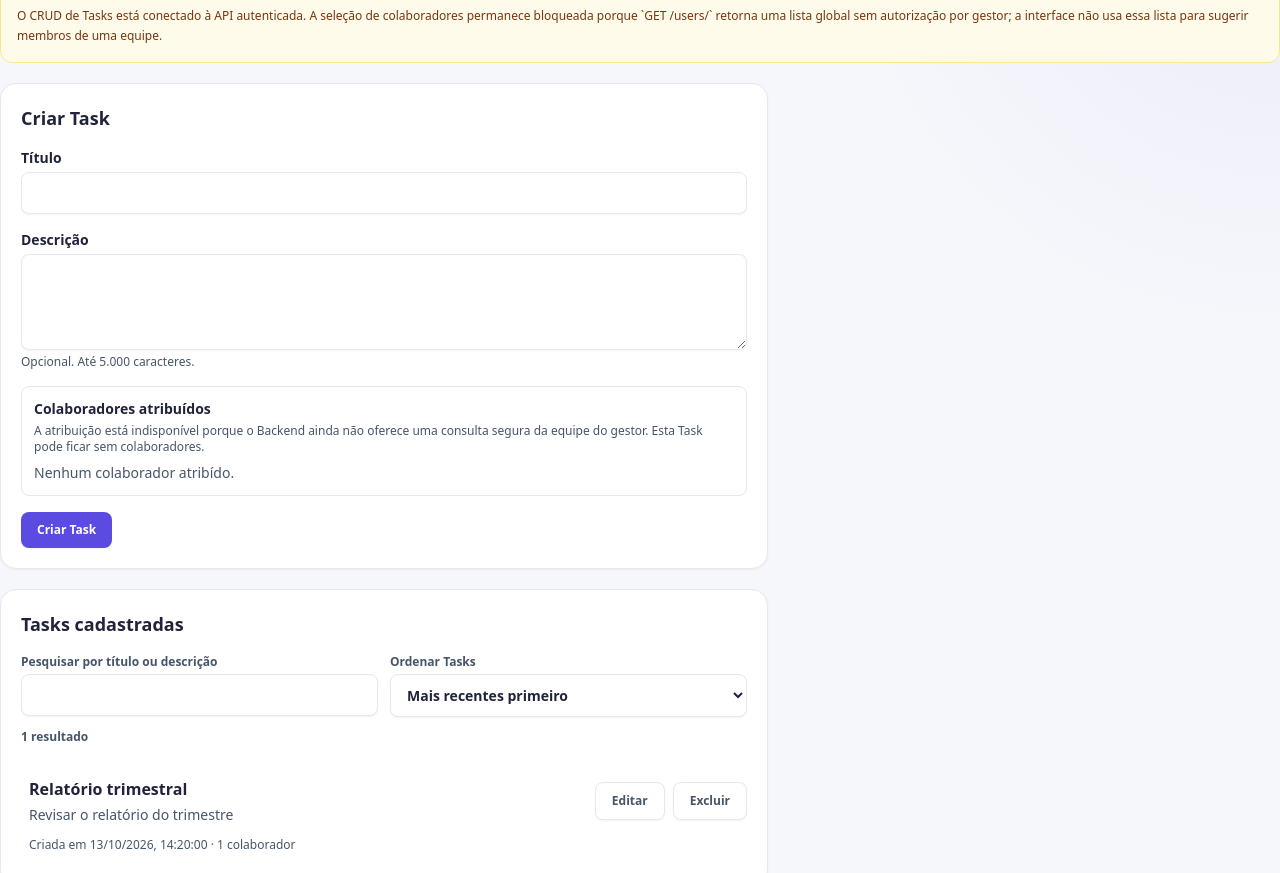
TasksPage › edita os campos da Task sem substituir colaboradores existentes
(page scrolled)
Click the button with aria-label "Editar Task: Relatório trimestral": (630, 801) [595,782,665,820]
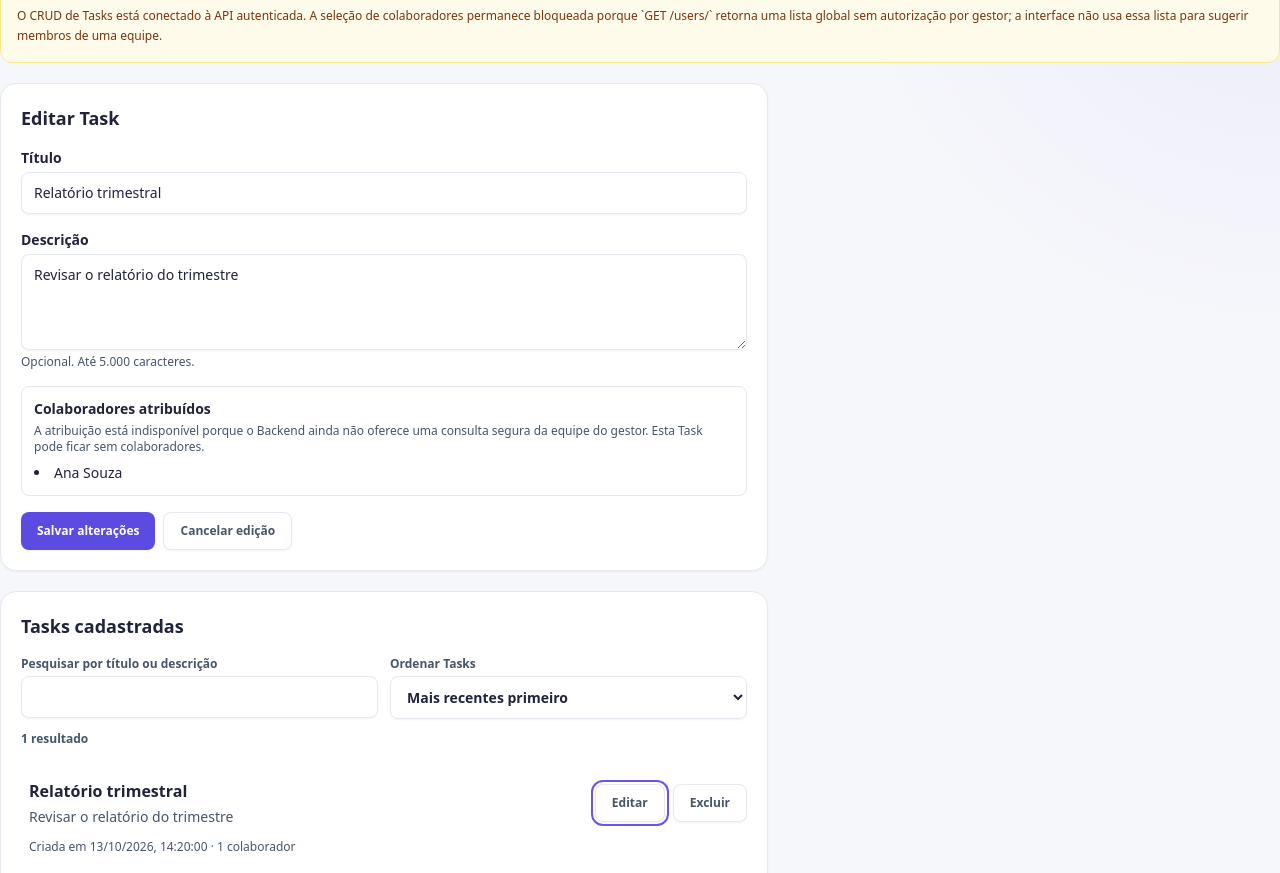
Check: the list item "Ana Souza" is shown, box [54,463,122,482]
Replace the text in the field labelled "Título" with "Relatório revisado": (384, 193) [21,172,747,214]
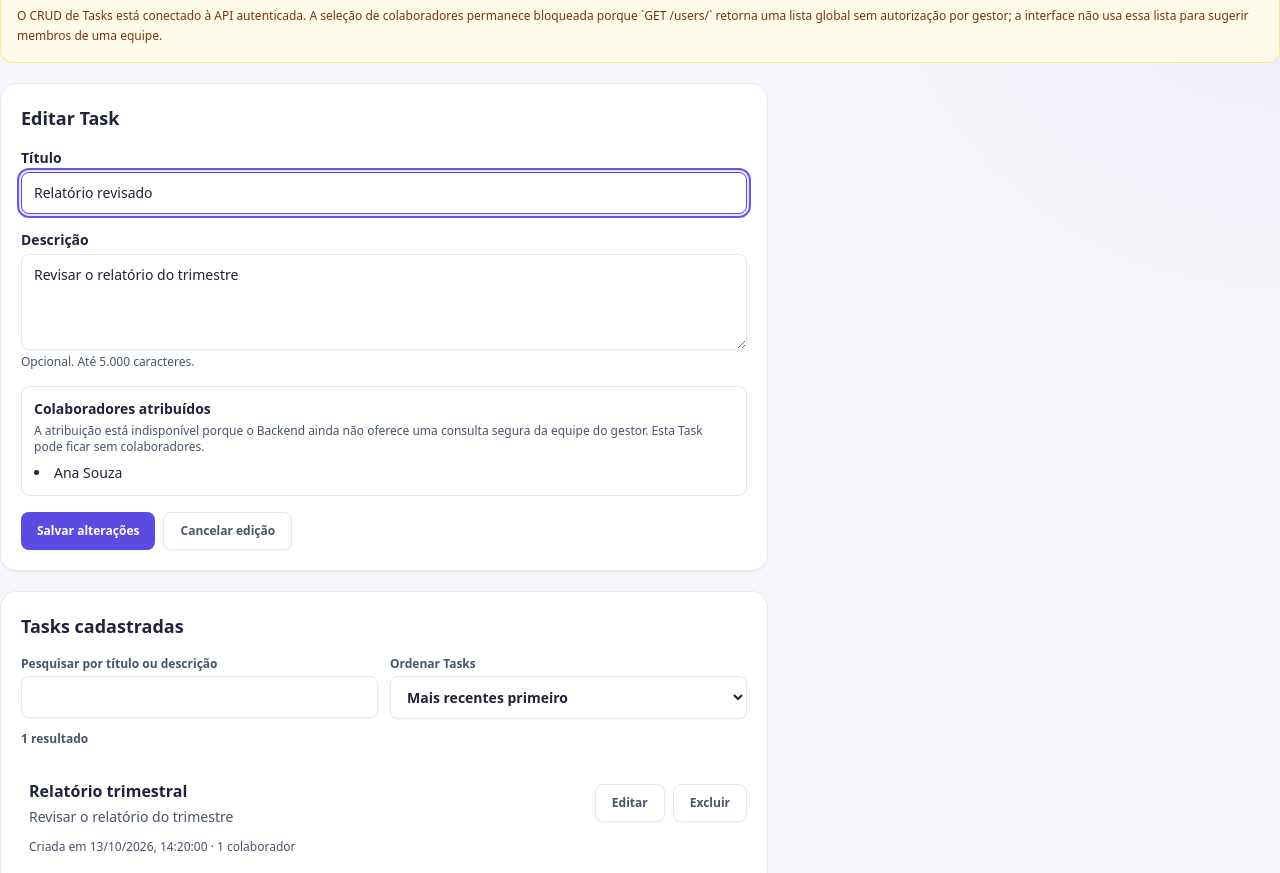
Click the button "Salvar alterações": (88, 531) [21,512,156,550]
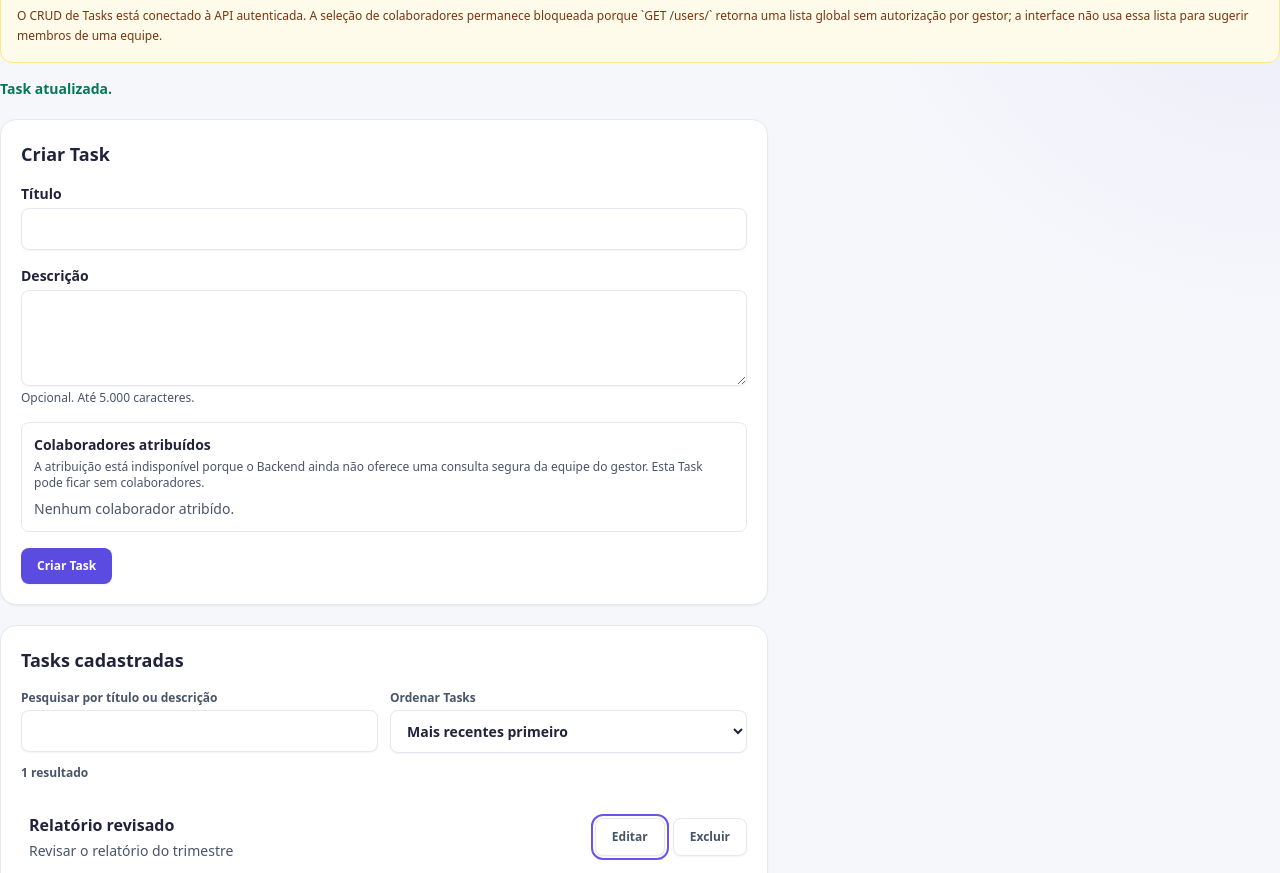
Check: the text "Task atualizada." is shown, box [0,79,112,98]
